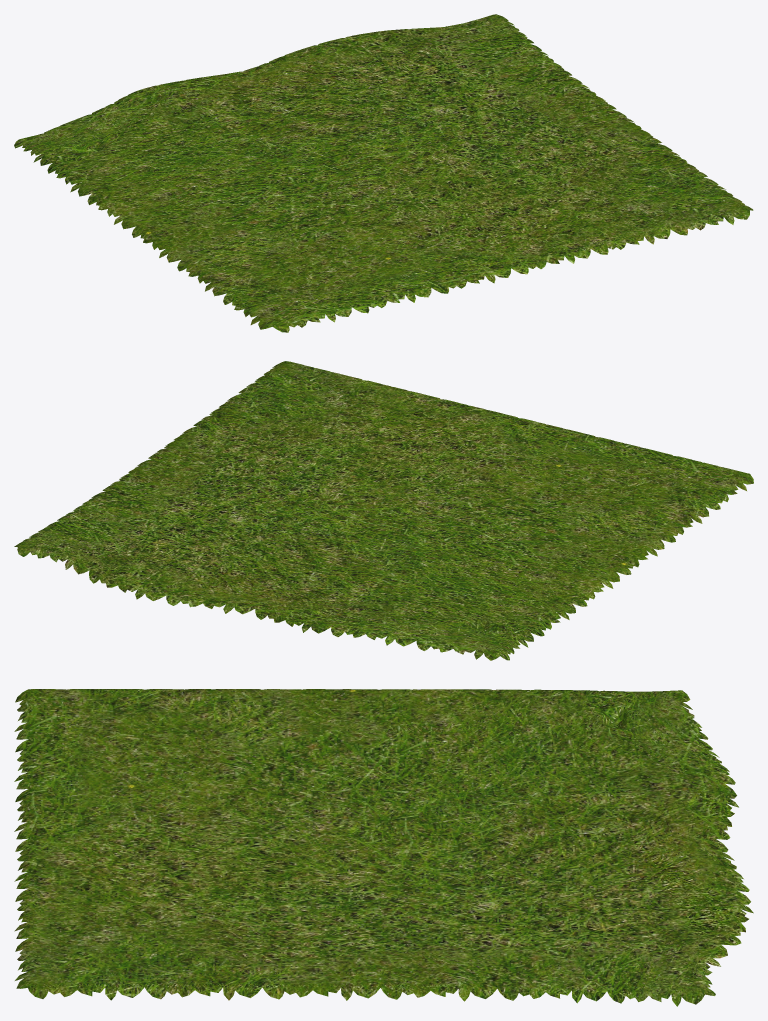
Rendered from dat.fbx.
3 views of the same model, one above another, from view 1: azimuth 30°, elevation 25°; view 2: azimuth 150°, elevation 25°; view 3: azimuth 270°, elevation 25° (orthographic). The views are drawn at different scales.
Parts seen in each view (by area): view 1: 1a; view 2: 1a; view 3: 1a.
Boxes of the visible parts, x1,y1,x2,y2 form: 1a: (14,14,753,332); 1a: (14,361,753,660); 1a: (14,689,753,1006).
Bounding box in the file's own units: 181 × 3.65 × 179.
Materials: 1 (1 with a texture image).
